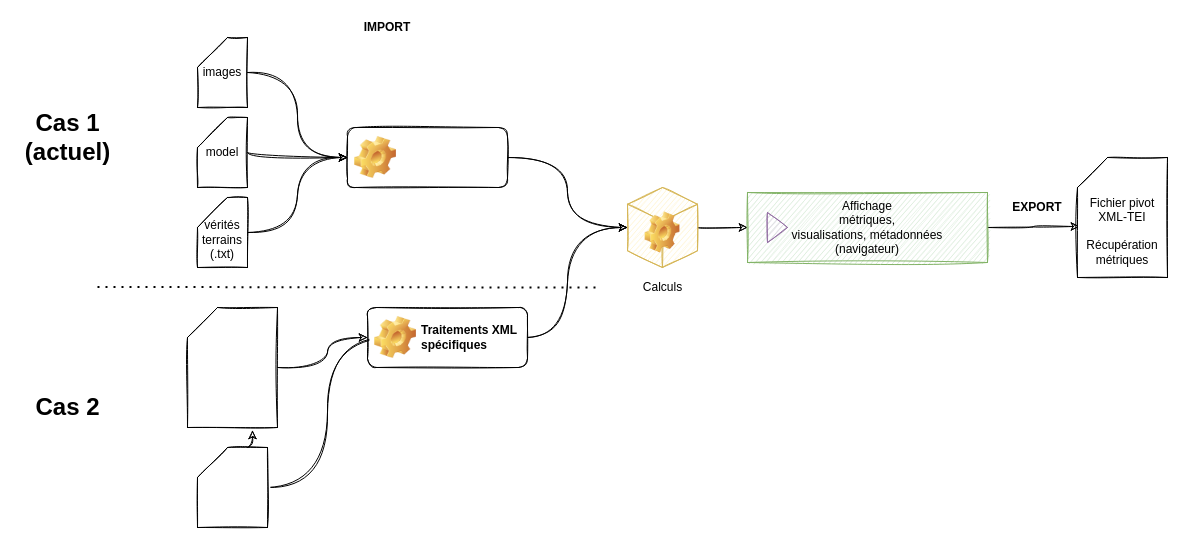
Some shapes in this 1185 by 545 pixel diagram are drawn without their labels. The shapes that lost their labels are listed below. From the top down, each one's centre as x and y in pixels, then its label:
pixel 427 157: Séquence HTR (Kraken API)
pixel 232 367: Fichier pivot XML-TEI (vérités terrains, transcription HTR)
pixel 232 487: images (ou liens IIIF)
